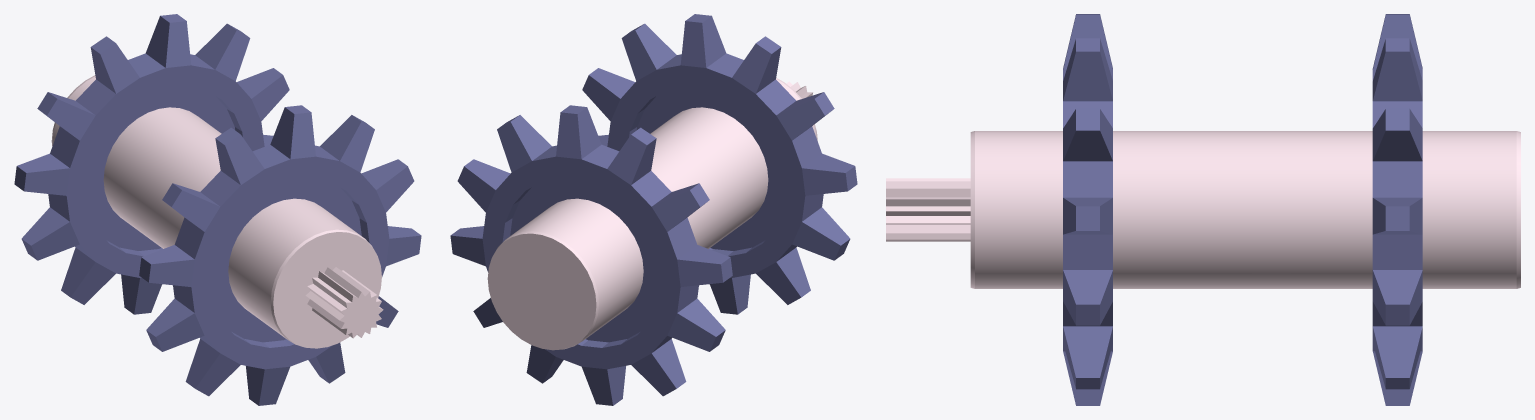
The model's file is Gear_scene.dae.
3 renders of one model, left to right at view 1: azimuth 30°, elevation 25°; view 2: azimuth 150°, elevation 25°; view 3: azimuth 270°, elevation 25°, orthographic. The views are drawn at different scales.
Visible parts, largest first — view 1: Group38557, Cylinder; view 2: Group38557, Cylinder; view 3: Cylinder, Group38557.
Boxes of the visible parts, x1,y1,x2,y2 form: Group38557: [14, 14, 421, 405]; Cylinder: [51, 75, 383, 348]; Group38557: [450, 14, 857, 405]; Cylinder: [487, 78, 817, 350]; Cylinder: [886, 131, 1520, 288]; Group38557: [1063, 14, 1422, 405].
Bounding box in the file's own units: 5.95 × 9.66 × 5.95.
